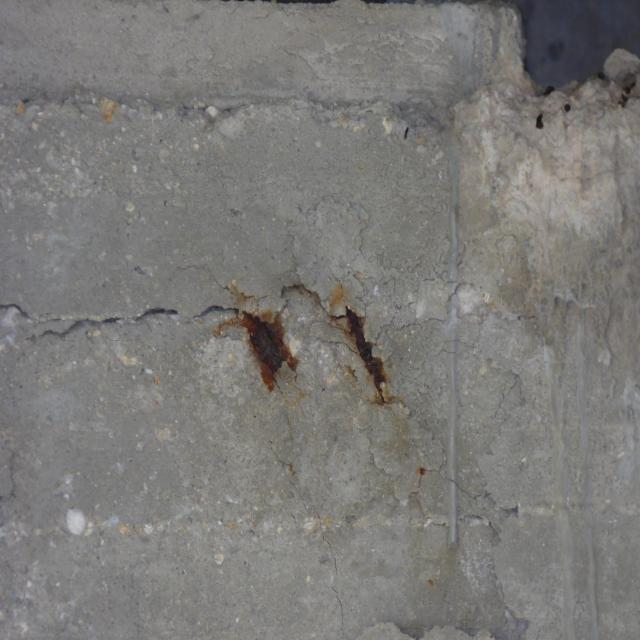Rebar: (325, 282, 406, 410), (212, 283, 299, 391)
diagonal crack: (171, 264, 268, 312), (282, 47, 328, 83)
horizontal crack: (3, 284, 270, 364), (305, 29, 442, 68)
vertical crack: (266, 434, 347, 640)
